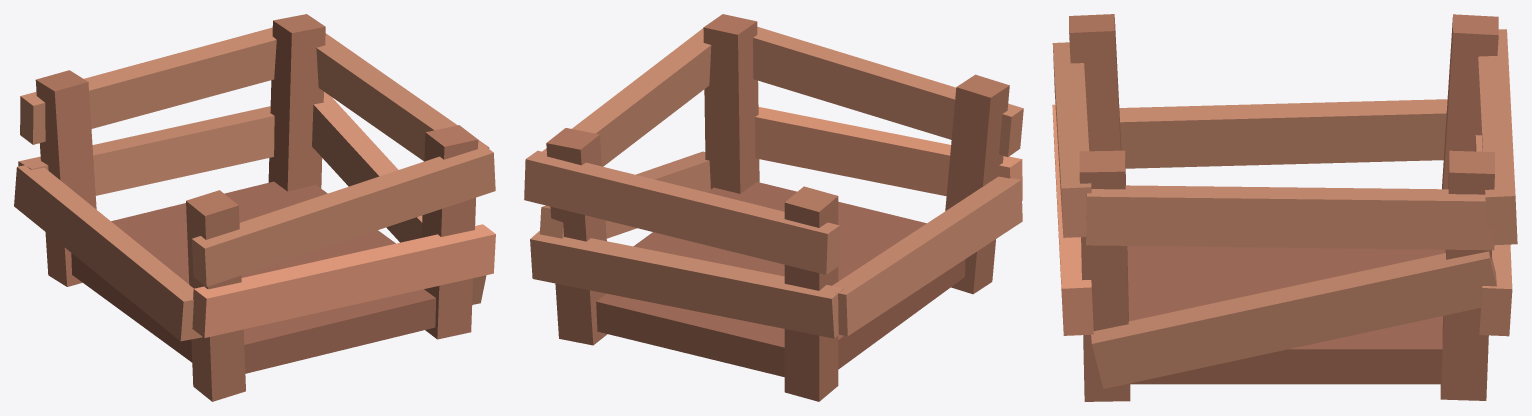
The model's file is crate.fbx.
3 renders of one model, left to right at view 1: azimuth 30°, elevation 25°; view 2: azimuth 150°, elevation 25°; view 3: azimuth 270°, elevation 25°, orthographic. The views are drawn at different scales.
Parts seen in each view (by area): view 1: Cube.006; view 2: Cube.006; view 3: Cube.006.
Part boxes in pixels (box(x1,y1,x2,y2)): Cube.006: box(14, 14, 495, 401); Cube.006: box(524, 14, 1023, 401); Cube.006: box(1052, 14, 1517, 401).
Size of the model in its own units: 80.6 by 49.46 by 86.54.
